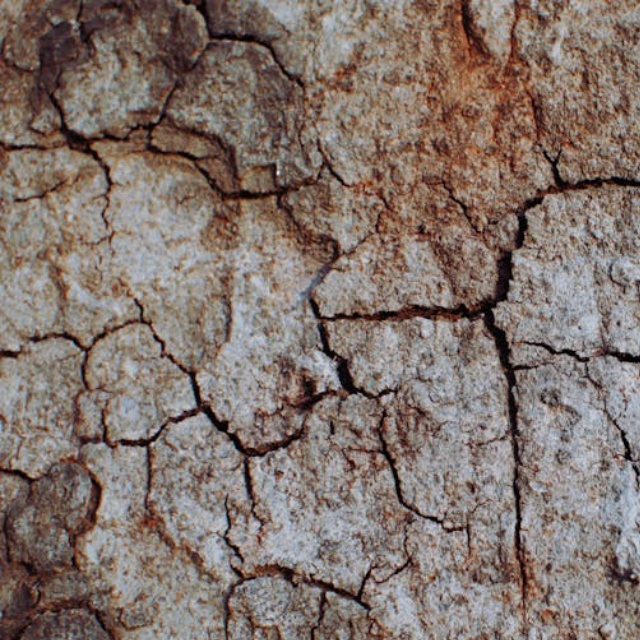细微裂纹: (401, 160, 579, 590), (103, 341, 338, 640), (449, 288, 574, 628)
网状裂隙: (218, 110, 640, 640), (340, 43, 640, 640)
